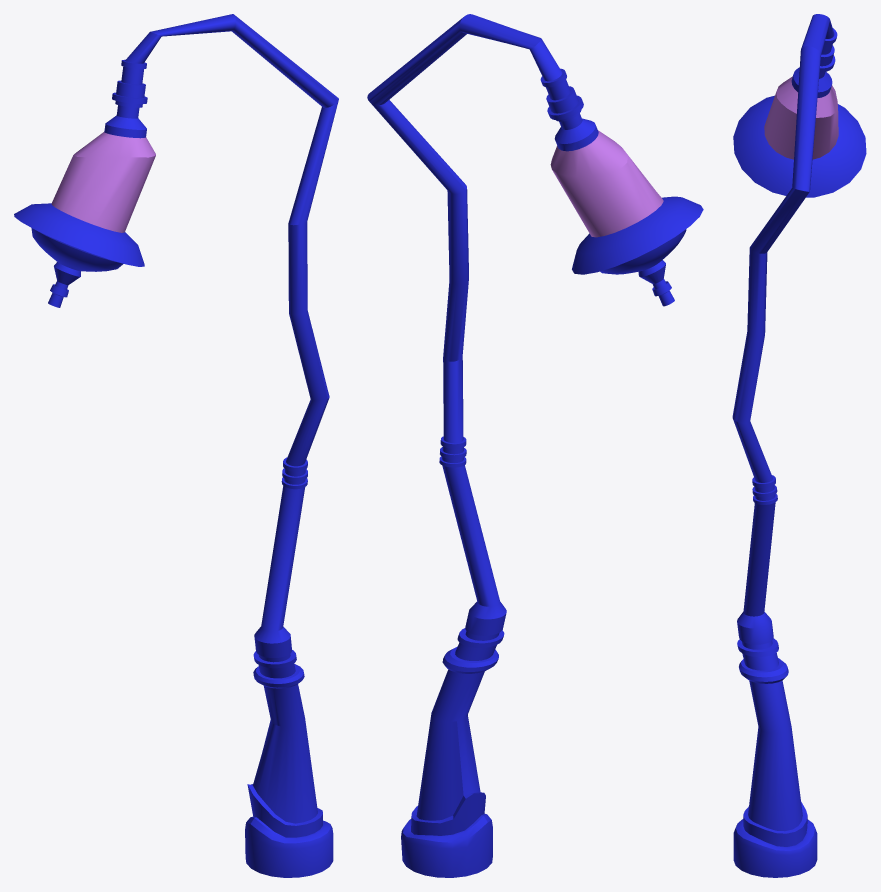
Rendered from StreetLamp_04.fbx.
The picture shows the model from 3 angles, left to right: view 1: azimuth 30°, elevation 25°; view 2: azimuth 150°, elevation 25°; view 3: azimuth 270°, elevation 25°; orthographic projection. The views are drawn at different scales.
Parts seen in each view (by area): view 1: lamp_02.002; view 2: lamp_02.002; view 3: lamp_02.002.
Part boxes in pixels (left/top/right/bottom): lamp_02.002: left=14, top=14, right=338, bottom=877; lamp_02.002: left=367, top=14, right=703, bottom=877; lamp_02.002: left=732, top=14, right=866, bottom=877.
Size of the model in its own units: 136 by 347 by 52.86.
